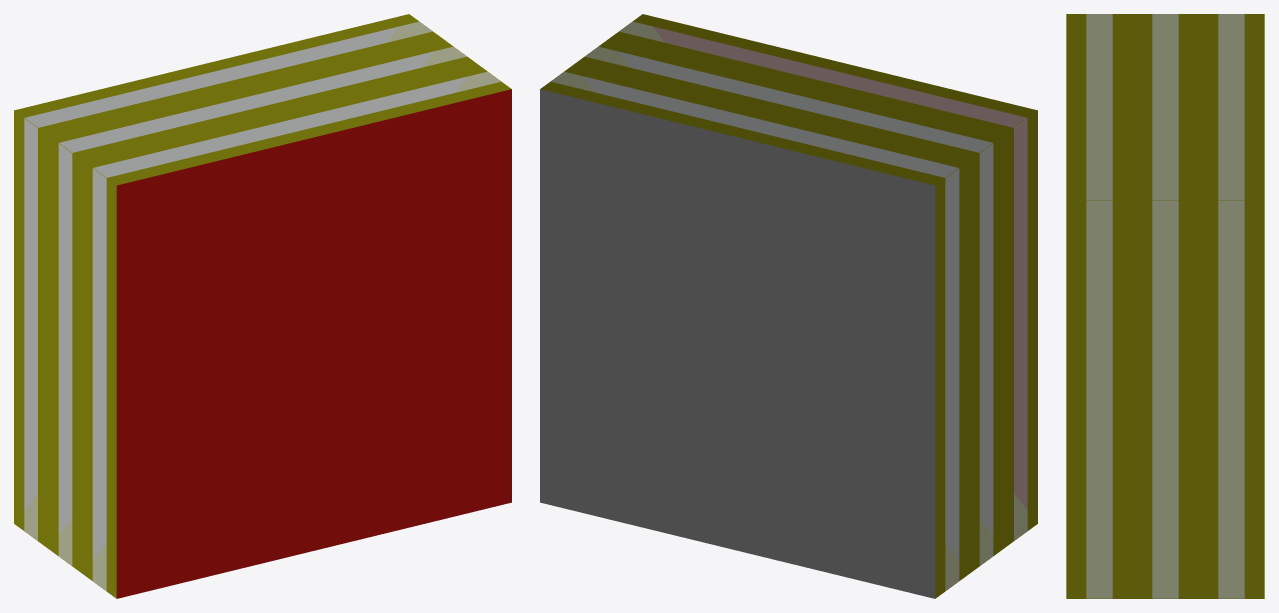
The model's file is idf1.obj.
3 renders of one model, left to right at view 1: azimuth 30°, elevation 25°; view 2: azimuth 150°, elevation 25°; view 3: azimuth 270°, elevation 25°, orthographic. The views are drawn at different scales.
Size of the model in its own units: 20 by 20 by 9.
